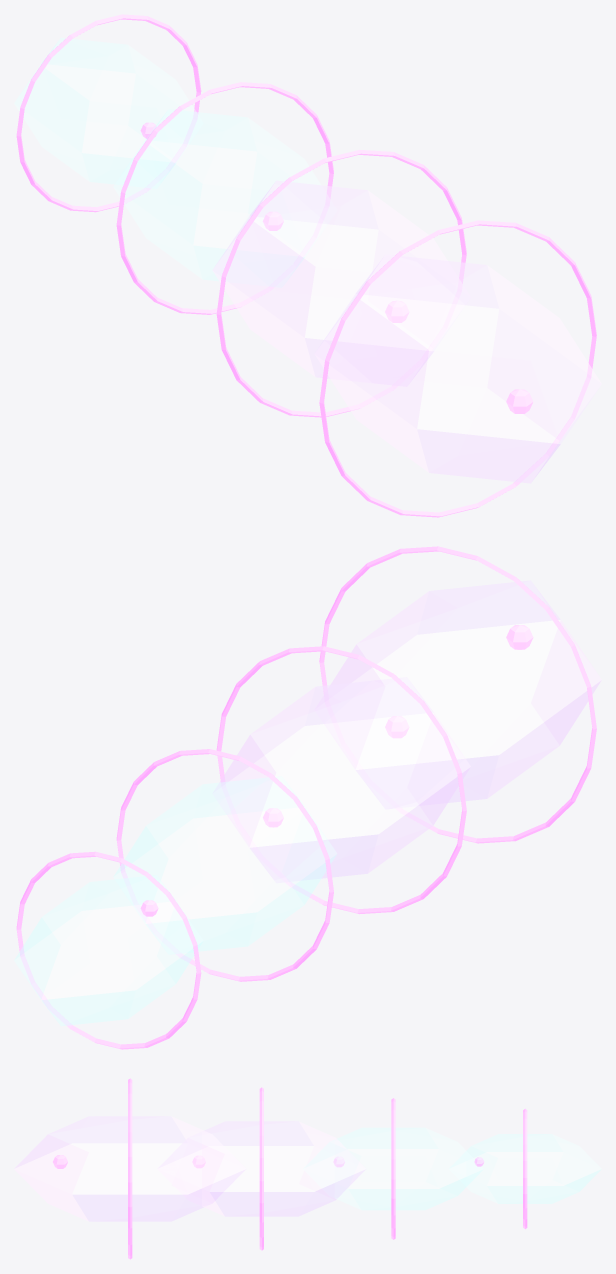
File: fx_afterimage_ghost.glb
The picture shows the model from 3 angles, top to bottom: view 1: azimuth 30°, elevation 25°; view 2: azimuth 150°, elevation 25°; view 3: azimuth 270°, elevation 25°; orthographic projection. The views are drawn at different scales.
Visible parts, largest first — view 1: fx_afterimage_ghost_ghost, fx_afterimage_ghost_beam, fx_afterimage_ghost_lume; view 2: fx_afterimage_ghost_ghost, fx_afterimage_ghost_beam, fx_afterimage_ghost_lume; view 3: fx_afterimage_ghost_ghost, fx_afterimage_ghost_beam, fx_afterimage_ghost_lume.
Part boxes in pixels (x1,y1,x2,y2): fx_afterimage_ghost_ghost: (212, 180, 601, 483); fx_afterimage_ghost_beam: (14, 37, 336, 287); fx_afterimage_ghost_lume: (16, 14, 596, 517); fx_afterimage_ghost_ghost: (212, 580, 601, 882); fx_afterimage_ghost_beam: (14, 776, 336, 1026); fx_afterimage_ghost_lume: (16, 546, 596, 1049); fx_afterimage_ghost_ghost: (14, 1116, 365, 1221); fx_afterimage_ghost_beam: (303, 1127, 601, 1210); fx_afterimage_ghost_lume: (53, 1078, 527, 1259).
Size of the model in its own units: 2.34 by 2.32 by 7.59.
